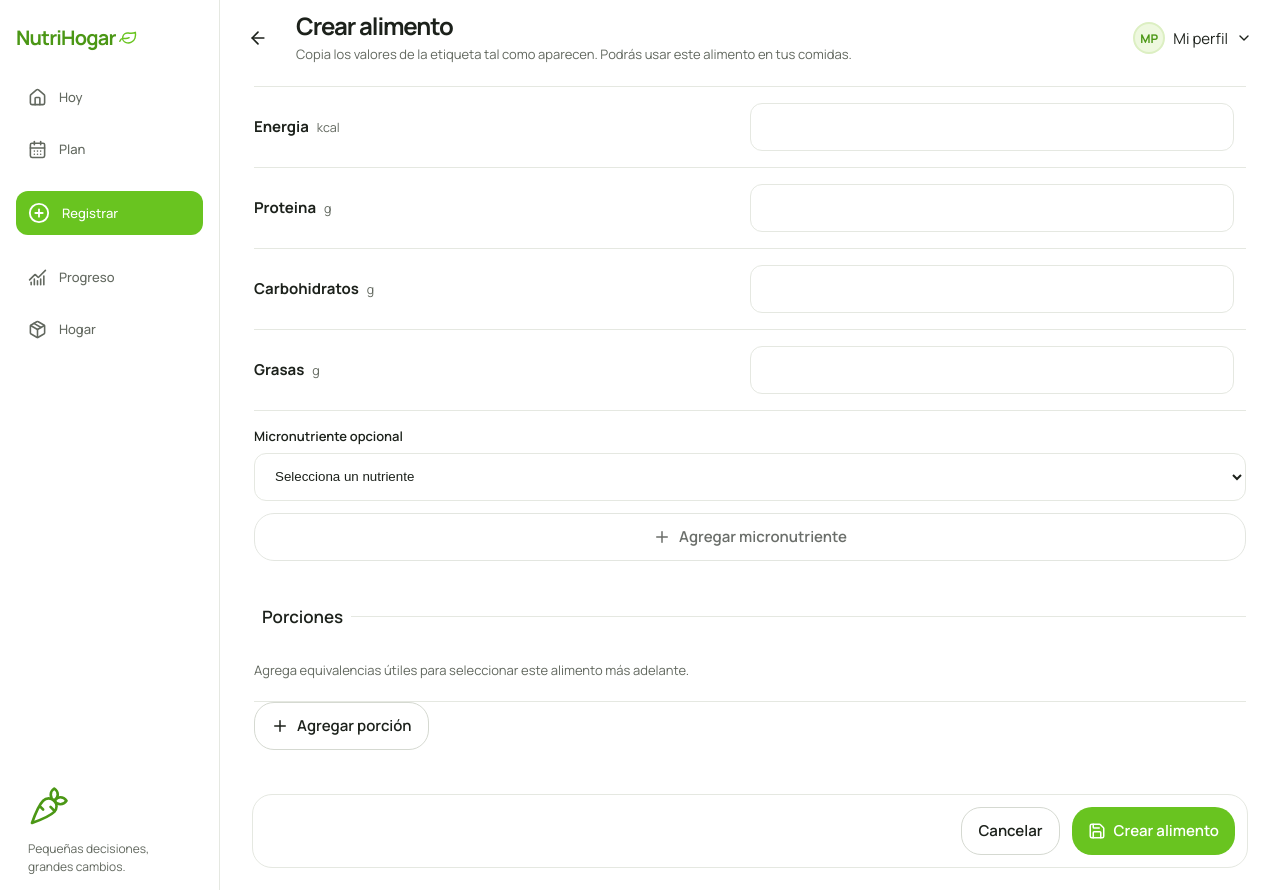
Test case: CustomFoodFormPage › adds an optional micronutrient and a serving
This screenshot has width=1280, height=890.
(page scrolled)
Select "Fibra (g)" in the dropdown labelled "Micronutriente opcional" at (750, 477), box x1=254 y1=453 x2=1246 y2=501
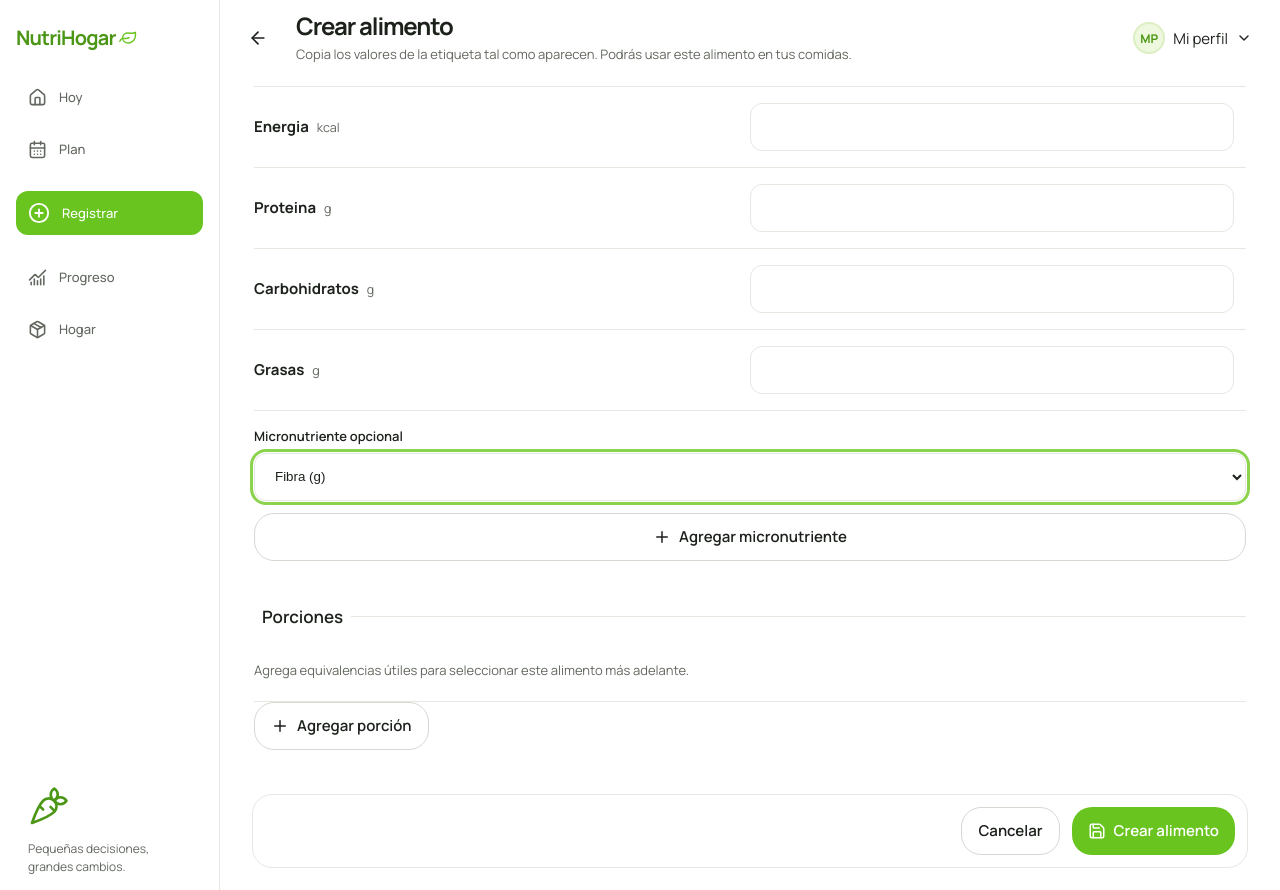
Click the button "Agregar micronutriente" at (750, 537), box x1=254 y1=513 x2=1246 y2=561
(page scrolled)
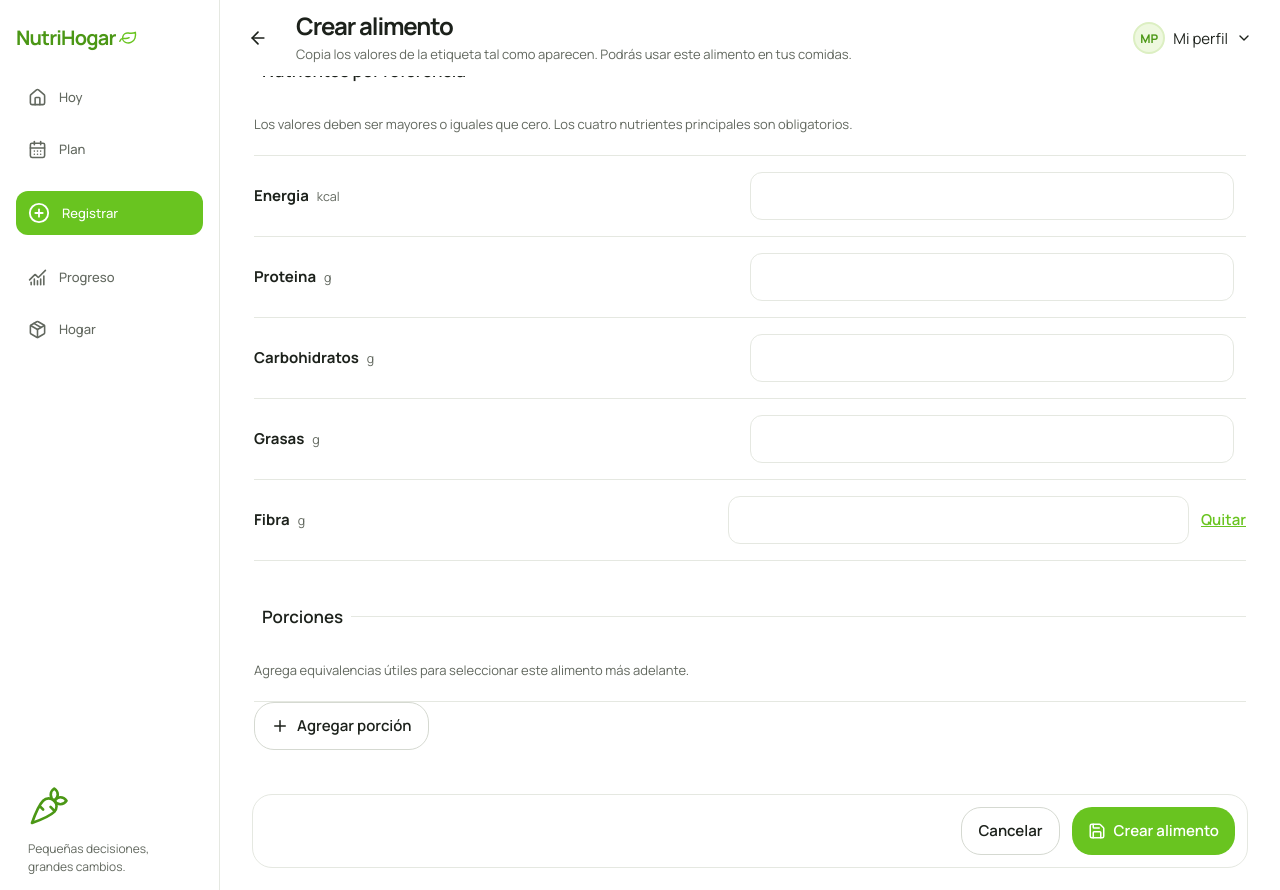
Expected: the number field named "Fibra cantidad" in the row of "Fibra" is shown, x1=728 y1=496 x2=1189 y2=544
Click the button "Agregar porción" at (341, 726), box x1=254 y1=702 x2=429 y2=750
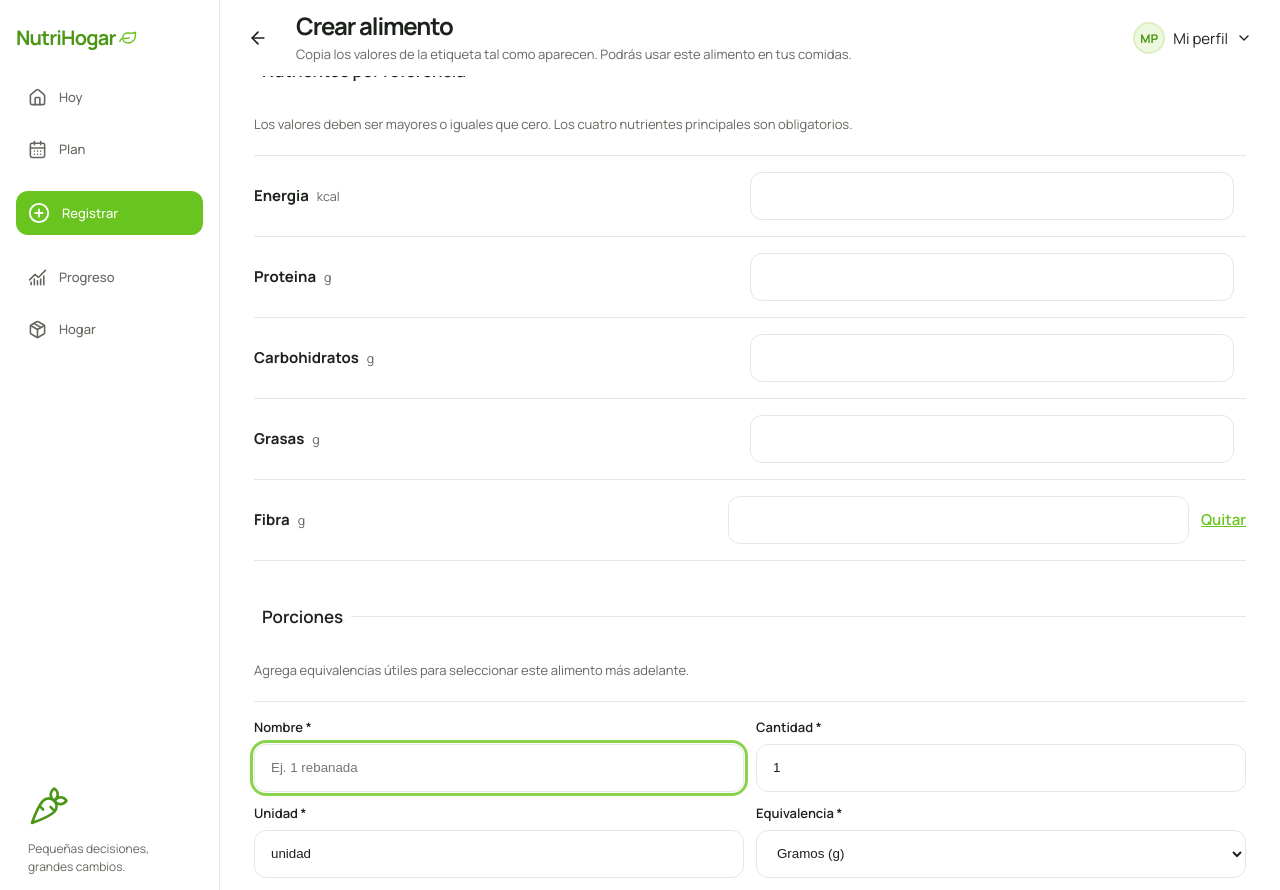
Expected: the field with placeholder "Ej. 1 rebanada" is shown, x1=254 y1=744 x2=744 y2=792
